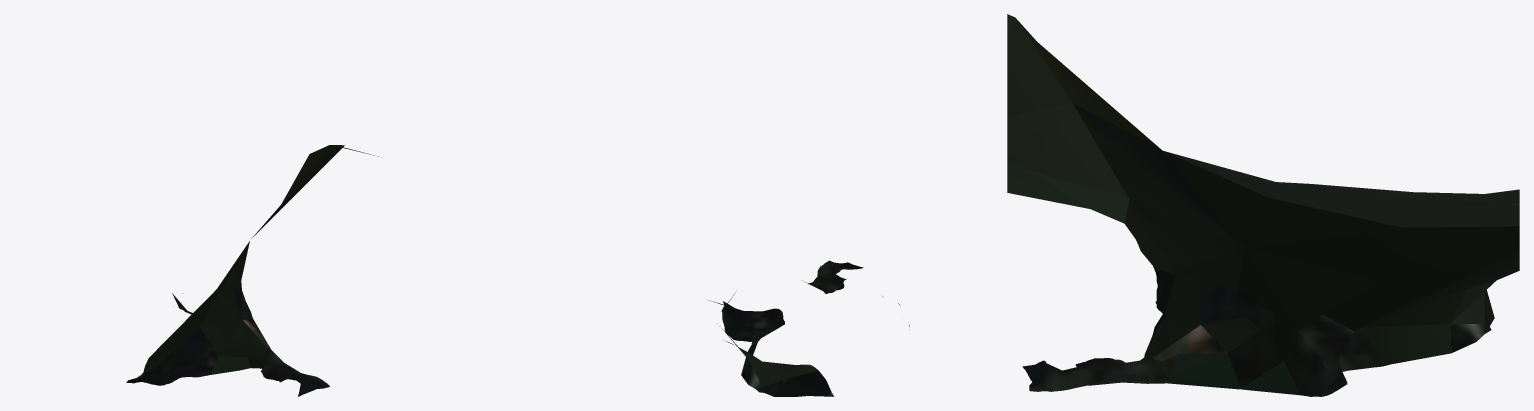
The picture shows the model from 3 angles, left to right: view 1: azimuth 30°, elevation 25°; view 2: azimuth 150°, elevation 25°; view 3: azimuth 270°, elevation 25°; orthographic projection. The views are drawn at different scales.
Bounding box in the file's own units: 0.983 × 0.7694 × 0.983.
1 material, 1 textured.
